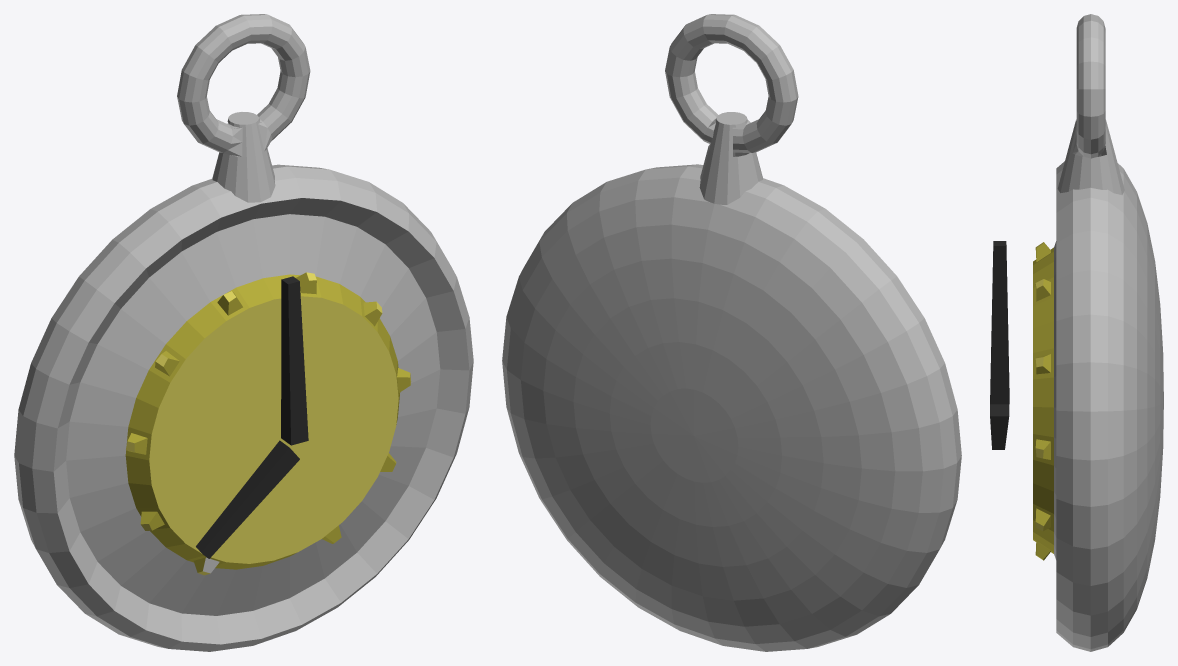
The model's file is low_poly_pocket_watch_Day_Time.fbx.
The picture shows the model from 3 angles, left to right: view 1: azimuth 30°, elevation 25°; view 2: azimuth 150°, elevation 25°; view 3: azimuth 270°, elevation 25°; orthographic projection. The views are drawn at different scales.
Visible parts, largest first — view 1: Sphere; view 2: Sphere; view 3: Sphere.
Part boxes in pixels (<box>): Sphere: <box>14,14,473,651</box>; Sphere: <box>502,14,961,651</box>; Sphere: <box>990,14,1163,651</box>.
Bounding box in the file's own units: 200 × 267 × 69.14.
